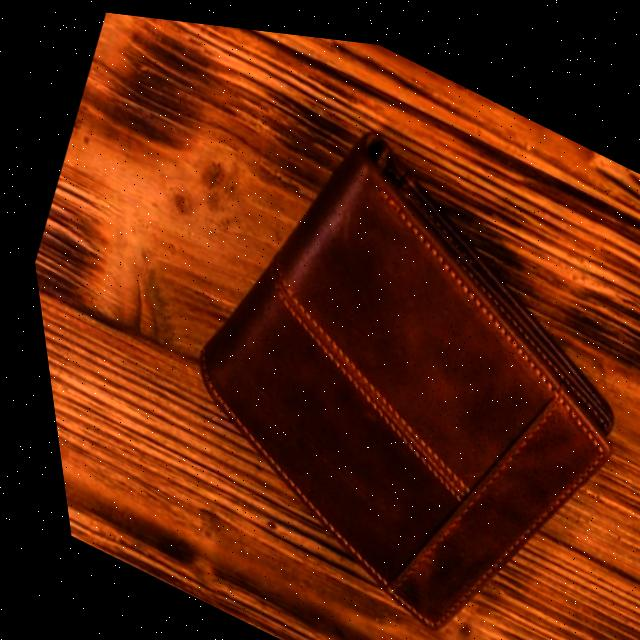cuzdan: (33, 38, 640, 640)
